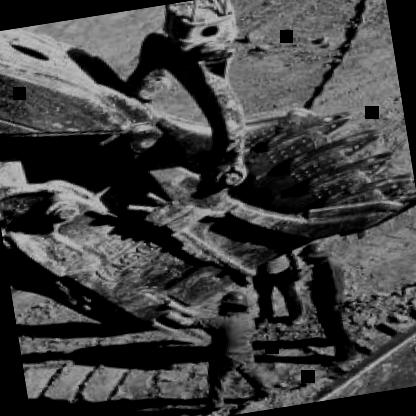helmet: (212, 288, 252, 317), (295, 240, 333, 269)
